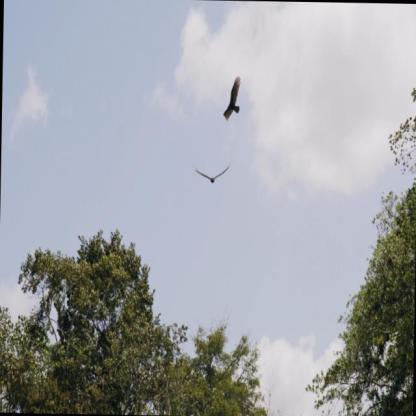bird: (191, 158, 233, 185), (222, 74, 242, 122)
